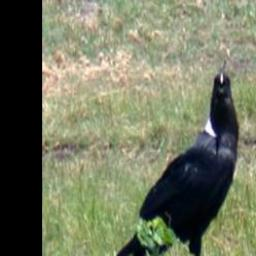Crow: (108, 68, 242, 256)
